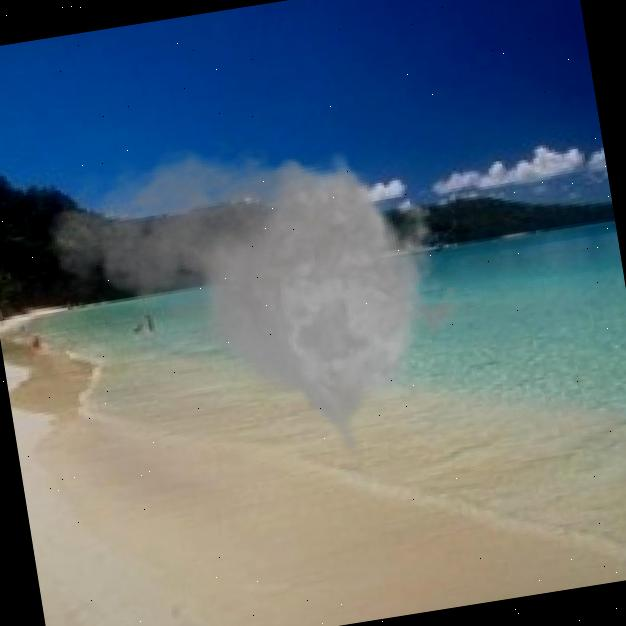smoke: (30, 98, 497, 510)
